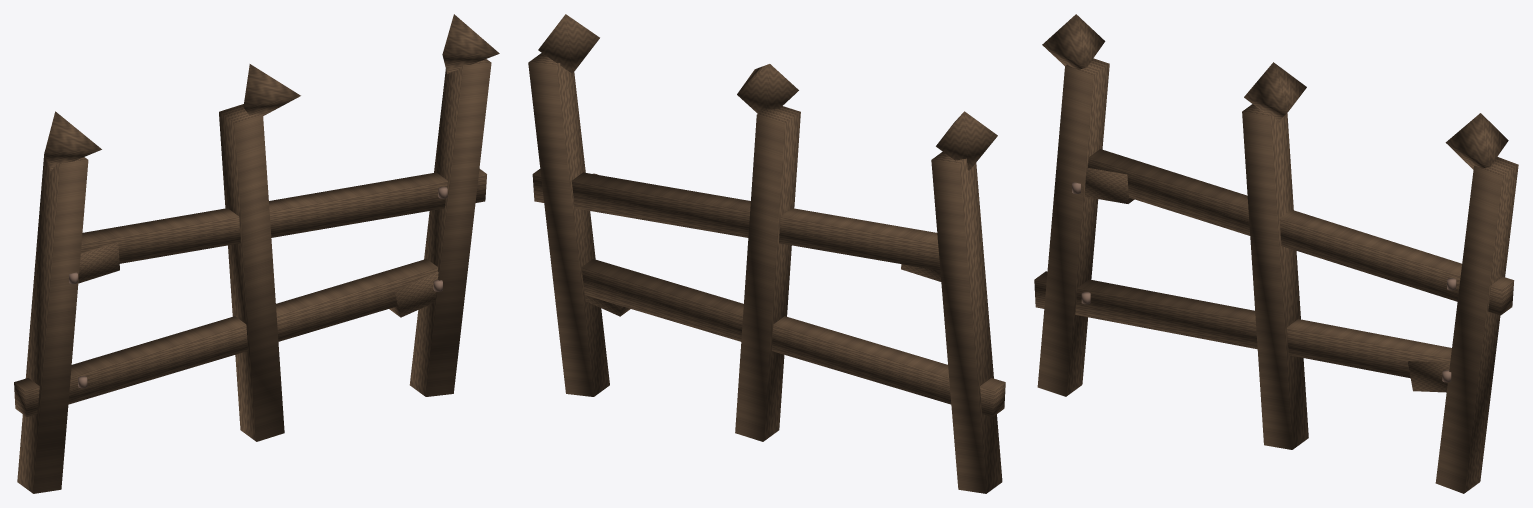
Rendered from haunted-fence.glb.
The picture shows the model from 3 angles, left to right: view 1: azimuth 30°, elevation 25°; view 2: azimuth 150°, elevation 25°; view 3: azimuth 330°, elevation 25°; orthographic projection.
Parts seen in each view (by area): view 1: post_0, post_2, post_1, rail_0, rail_1, postcap_2, postcap_0, postcap_1, rail_split_0, rail_split_1; view 2: post_0, post_2, rail_0, post_1, rail_1, postcap_2, postcap_0, postcap_1; view 3: post_1, post_2, post_0, rail_1, rail_0, postcap_2, postcap_0, postcap_1, rail_split_1, rail_split_0.
Boxes of the visible parts, x1,y1,x2,y2 form: post_0: (17,152,88,493); post_2: (409,59,491,396); post_1: (219,104,284,441); rail_0: (14,259,437,416); rail_1: (81,168,486,263); postcap_2: (442,14,499,73); postcap_0: (44,111,101,170); postcap_1: (243,64,300,115); rail_split_0: (389,271,438,317); rail_split_1: (78,242,119,283); post_0: (931,151,1002,493); post_2: (528,53,609,396); rail_0: (581,259,1005,416); post_1: (735,106,800,441); rail_1: (532,169,940,270); postcap_2: (538,14,599,73); postcap_0: (936,111,997,170); postcap_1: (737,64,798,113); post_1: (1242,104,1308,449); post_2: (1435,157,1518,493); post_0: (1037,58,1109,396); rail_1: (1088,149,1514,315); rail_0: (1034,271,1451,378); postcap_2: (1445,113,1508,169); postcap_0: (1042,14,1105,69); postcap_1: (1244,62,1306,121); rail_split_1: (1084,168,1134,203); rail_split_0: (1408,361,1449,392).
Bounding box in the file's own units: 3.96 × 3.04 × 0.4384.
3 materials, 2 textured.
